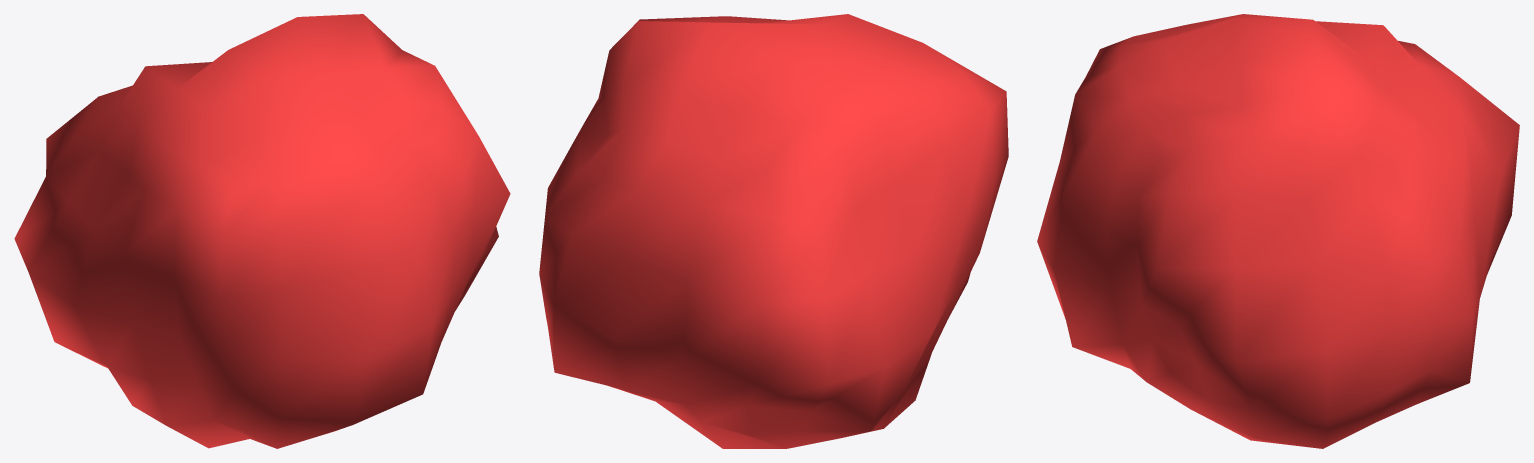
The model's file is Stone01.FBX.
The picture shows the model from 3 angles, left to right: view 1: azimuth 30°, elevation 25°; view 2: azimuth 150°, elevation 25°; view 3: azimuth 270°, elevation 25°; orthographic projection. The views are drawn at different scales.
Visible parts, largest first — view 1: rockLP007; view 2: rockLP007; view 3: rockLP007.
Part boxes in pixels (left/top/right/bottom): rockLP007: left=14, top=14, right=510, bottom=448; rockLP007: left=539, top=14, right=1008, bottom=448; rockLP007: left=1037, top=14, right=1519, bottom=448.
Bounding box in the file's own units: 2.4 × 2.25 × 2.53.
